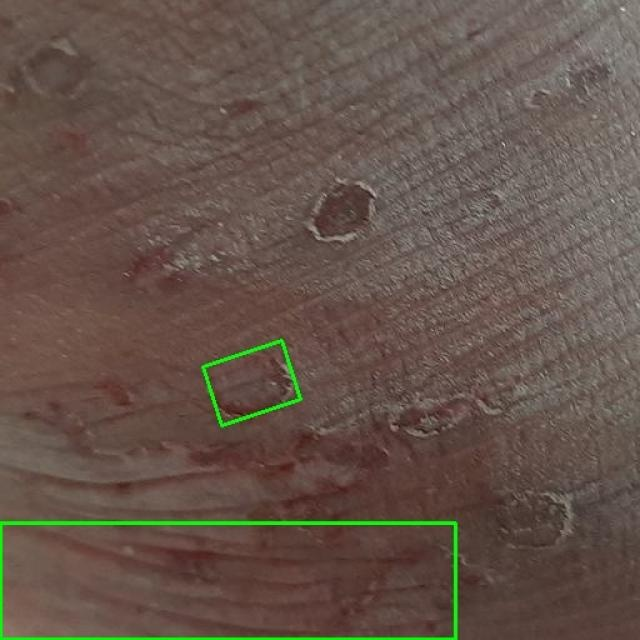Contact Dermatitis: (0, 522, 455, 639), (202, 341, 301, 426)
